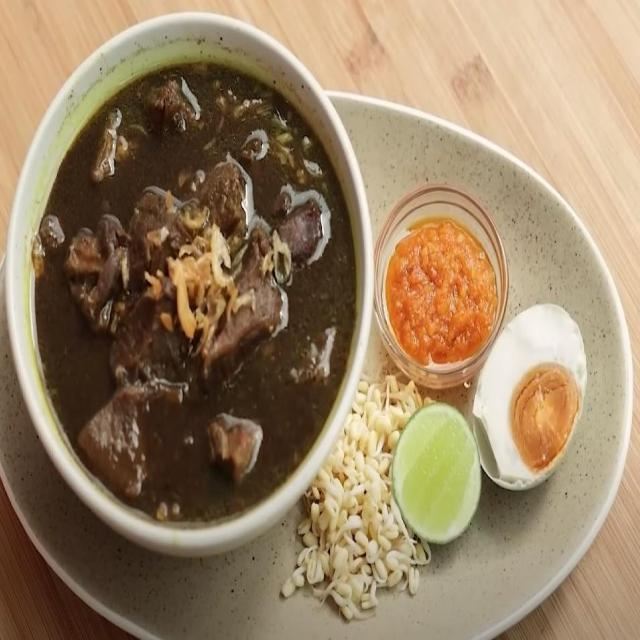Rawon: (43, 56, 329, 494)
